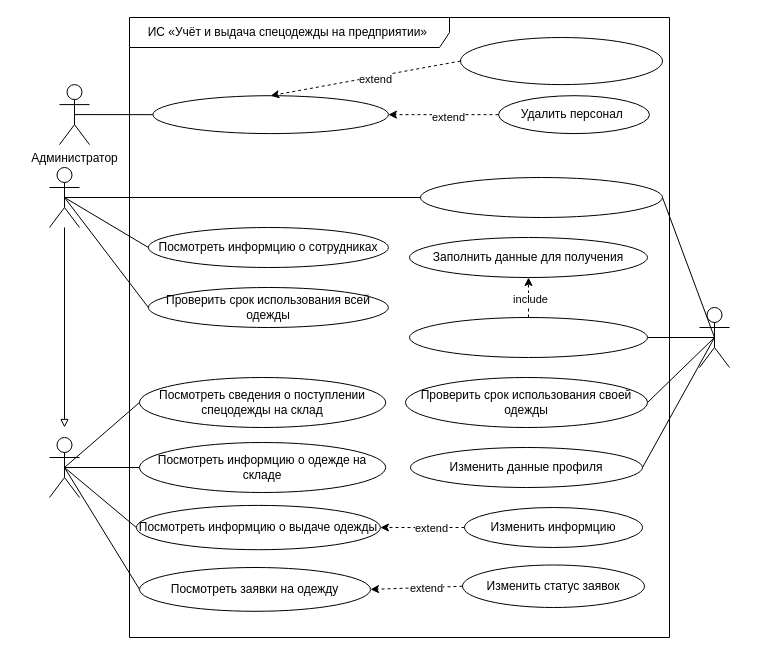
Image size: 760x655. Some labels were removed from this diagram. The shapes that lost their labels are listed below. From the top down, each one's centre as x and y in pixels, then its label:
At (561,60): "Посмотреть информацию о персонале".
At (270,114): "Добавить персонал в систему".
At (64,197): "Менеджер".
At (541,197): "Обратиться с жалобой на одежду".
At (528,337): "Создать заявку на получение одежды".
At (714,337): "Сотрудник".
At (64,467): "Работник склада".
